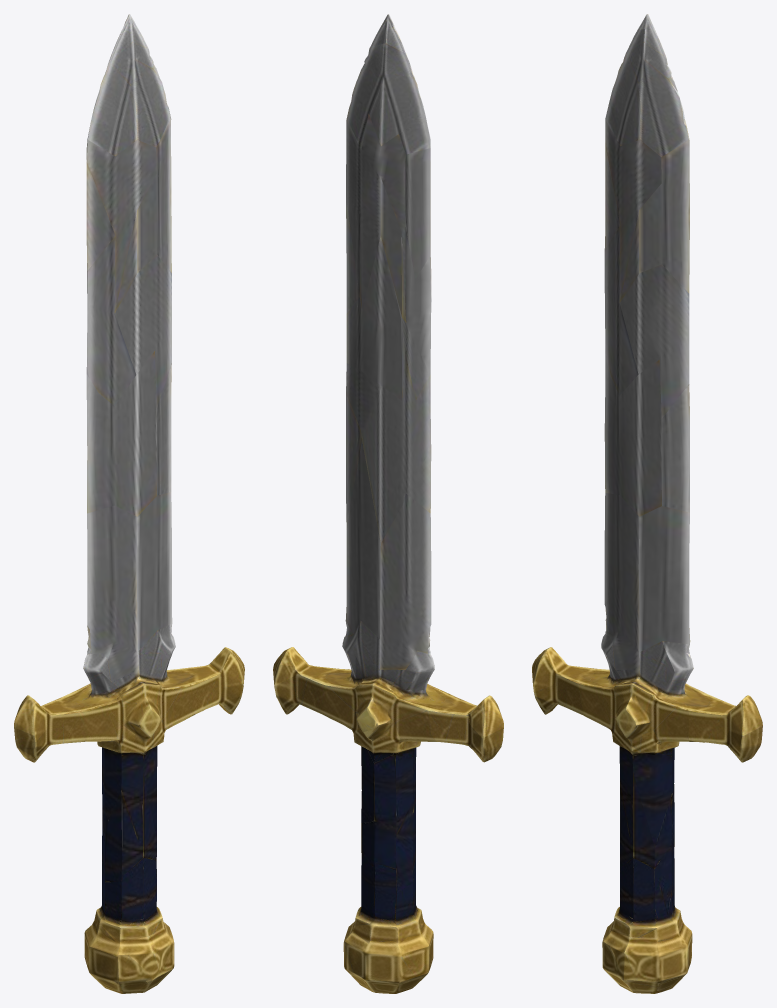
File: steadfast_sword.glb
3 renders of one model, left to right at view 1: azimuth 30°, elevation 25°; view 2: azimuth 150°, elevation 25°; view 3: azimuth 330°, elevation 25°, orthographic.
Bounding box in the file's own units: 0.4424 × 1.77 × 0.1535.
Materials: 1 (1 with a texture image).
